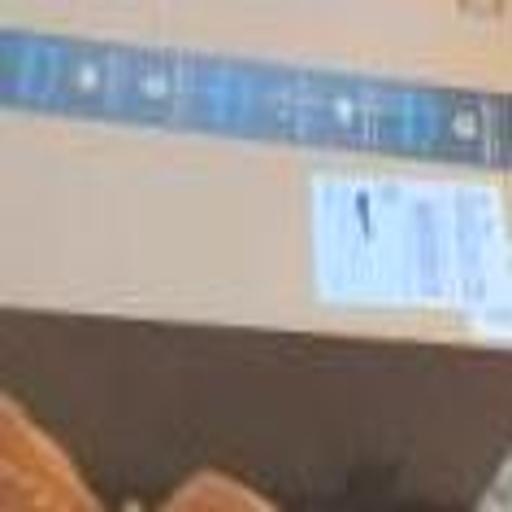Amazon: (2, 0, 511, 476)
